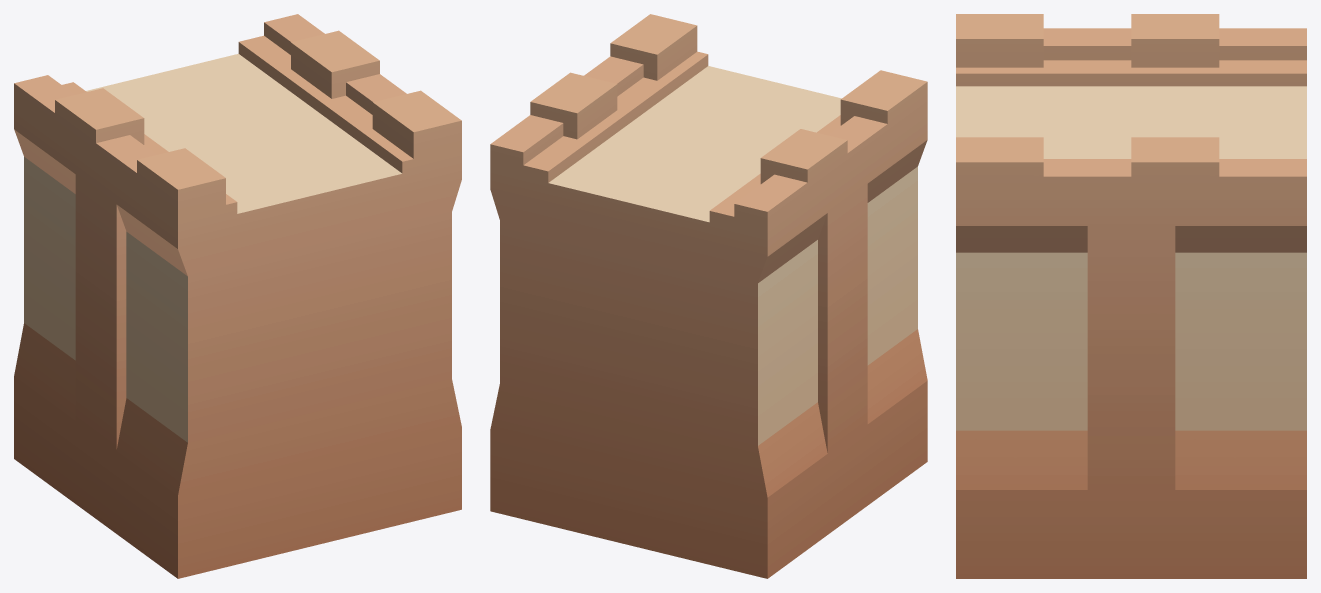
The model's file is k-castle-wall-pillar.glb.
3 views of the same model, side by side, from view 1: azimuth 30°, elevation 25°; view 2: azimuth 150°, elevation 25°; view 3: azimuth 270°, elevation 25° (orthographic). The views are drawn at different scales.
Parts seen in each view (by area): view 1: wall-pillar; view 2: wall-pillar; view 3: wall-pillar.
Part boxes in pixels (left/top/right/bottom): wall-pillar: left=14, top=14, right=461, bottom=578; wall-pillar: left=490, top=14, right=927, bottom=578; wall-pillar: left=956, top=14, right=1306, bottom=578.
Bounding box in the file's own units: 1 × 1.31 × 1.
Materials: 1 (1 with a texture image).
